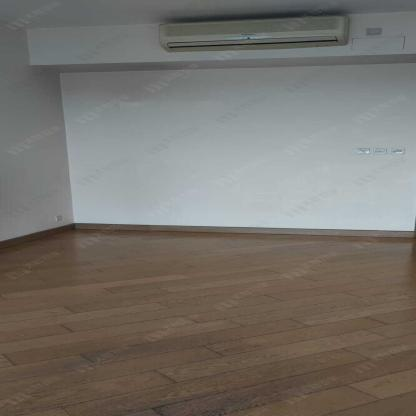AC: (155, 15, 349, 53)
